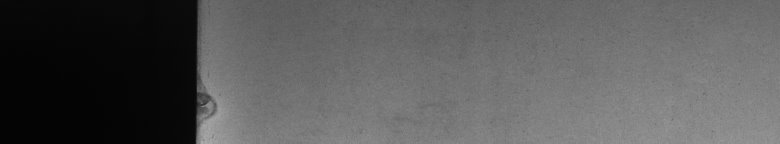hb: (208, 88, 223, 124)
